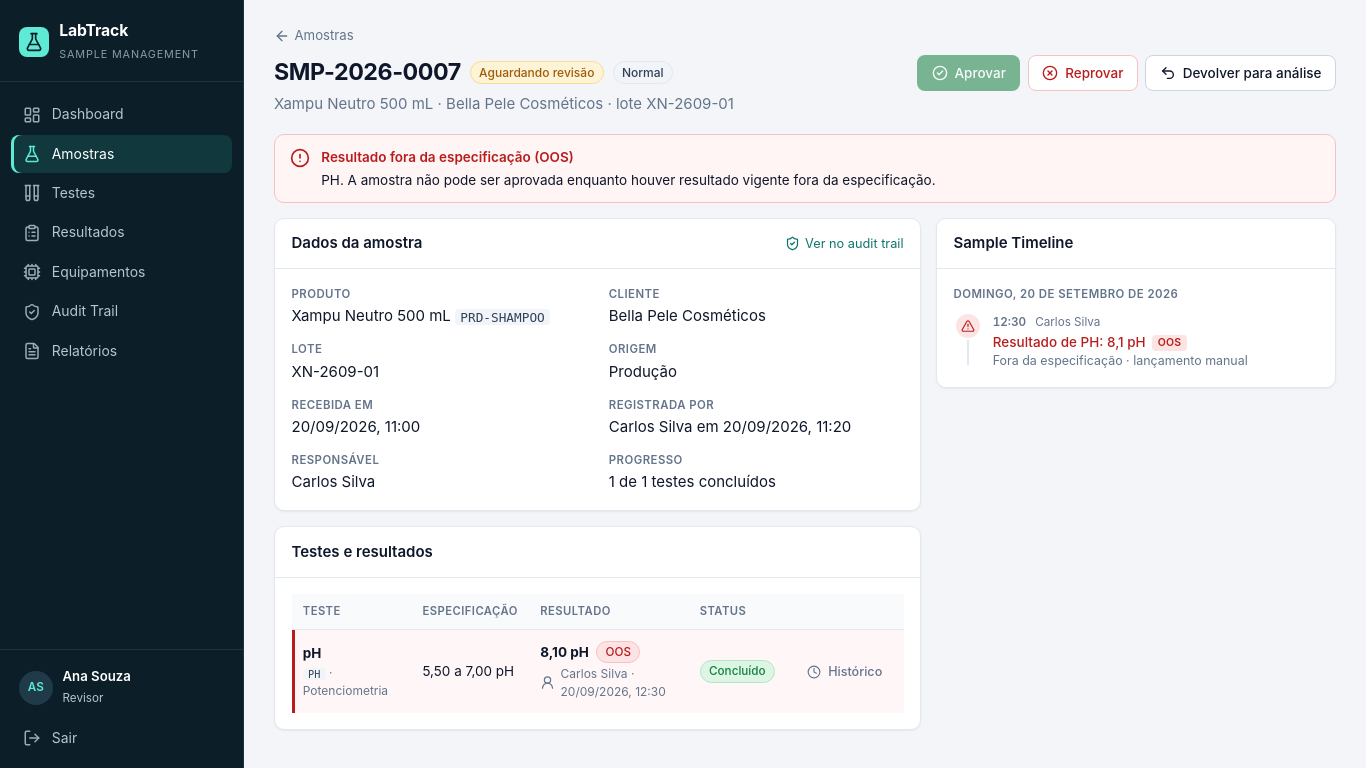
Test: detalhe da amostra › reprovação exige justificativa e mostra o erro da API sem fechar
Click the button "Reprovar" at [1083, 73], box x1=1028 y1=55 x2=1138 y2=91
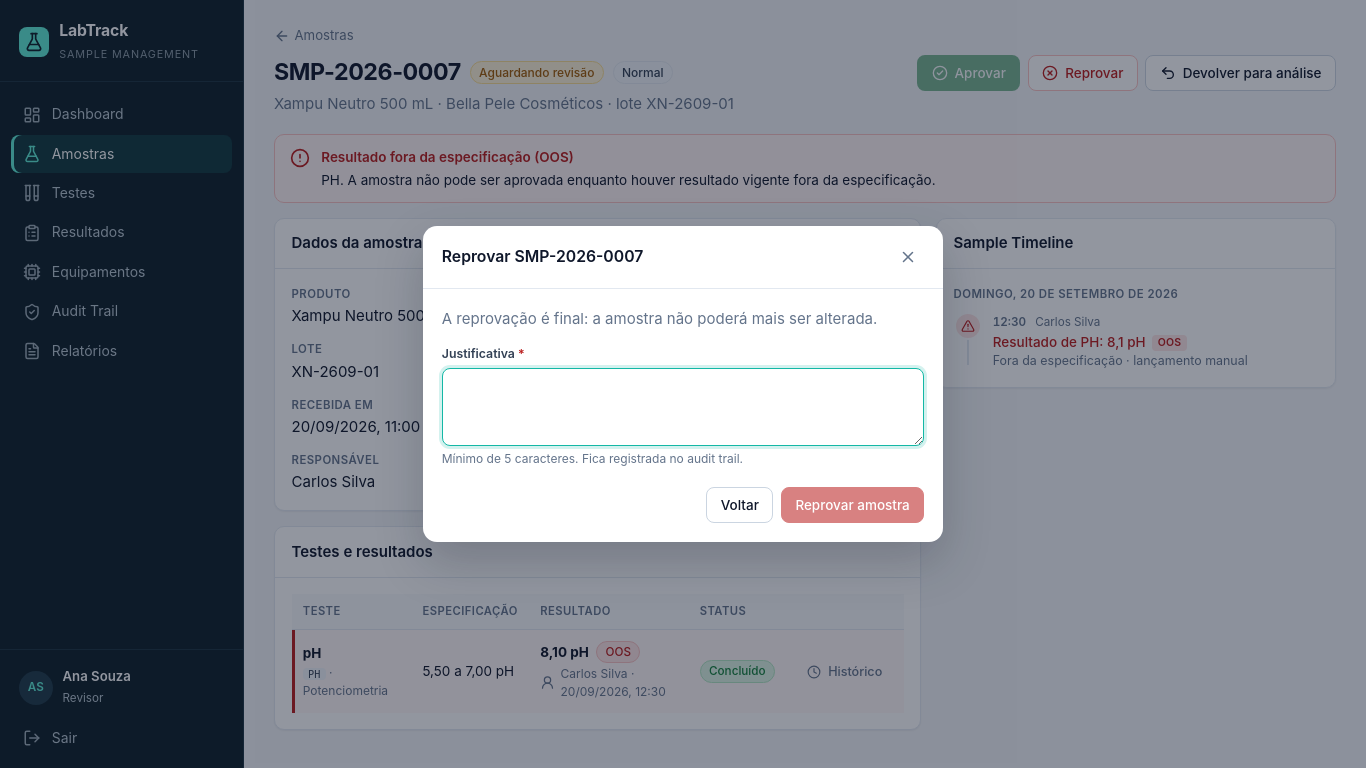
Type "pH" into the text box labelled "Justificativa *" at [683, 407], box x1=442 y1=368 x2=924 y2=446
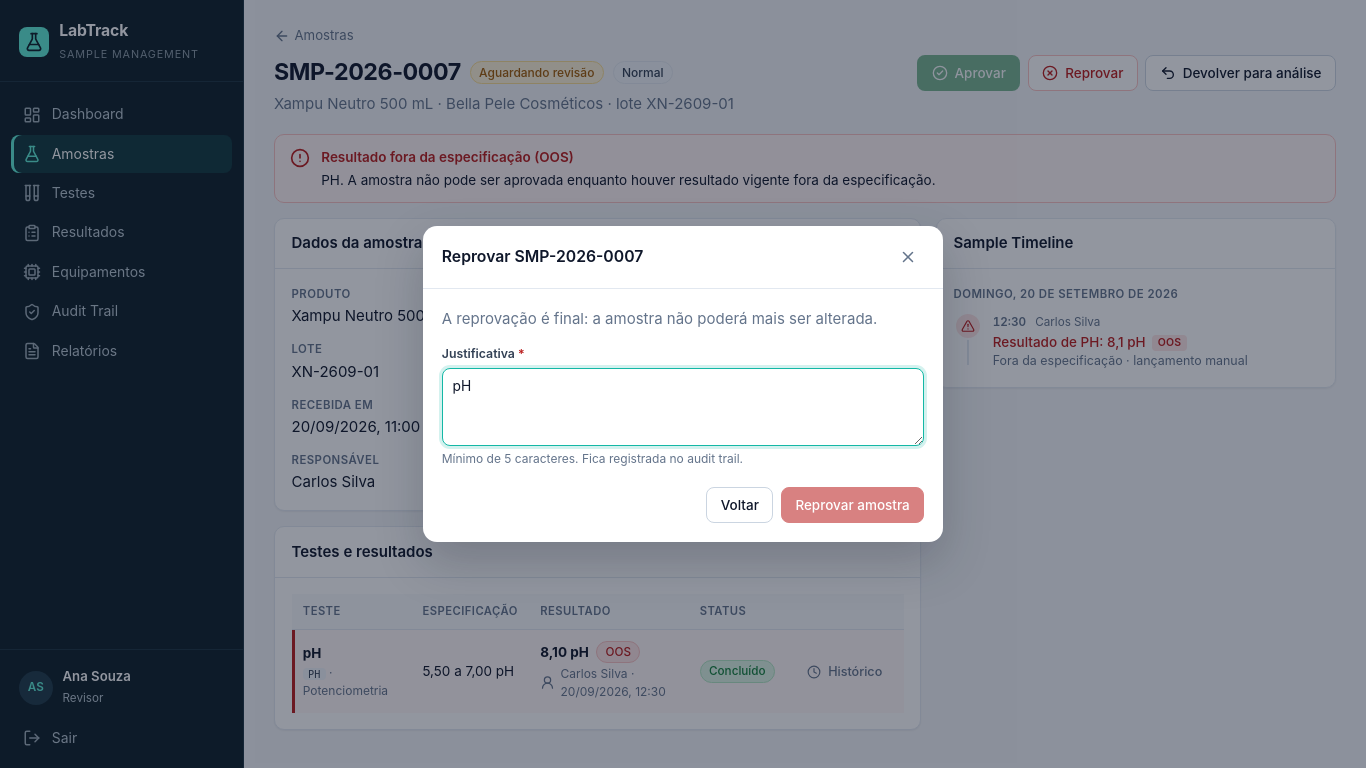
Type " acima do limite" into the text box labelled "Justificativa *" at [683, 407], box x1=442 y1=368 x2=924 y2=446
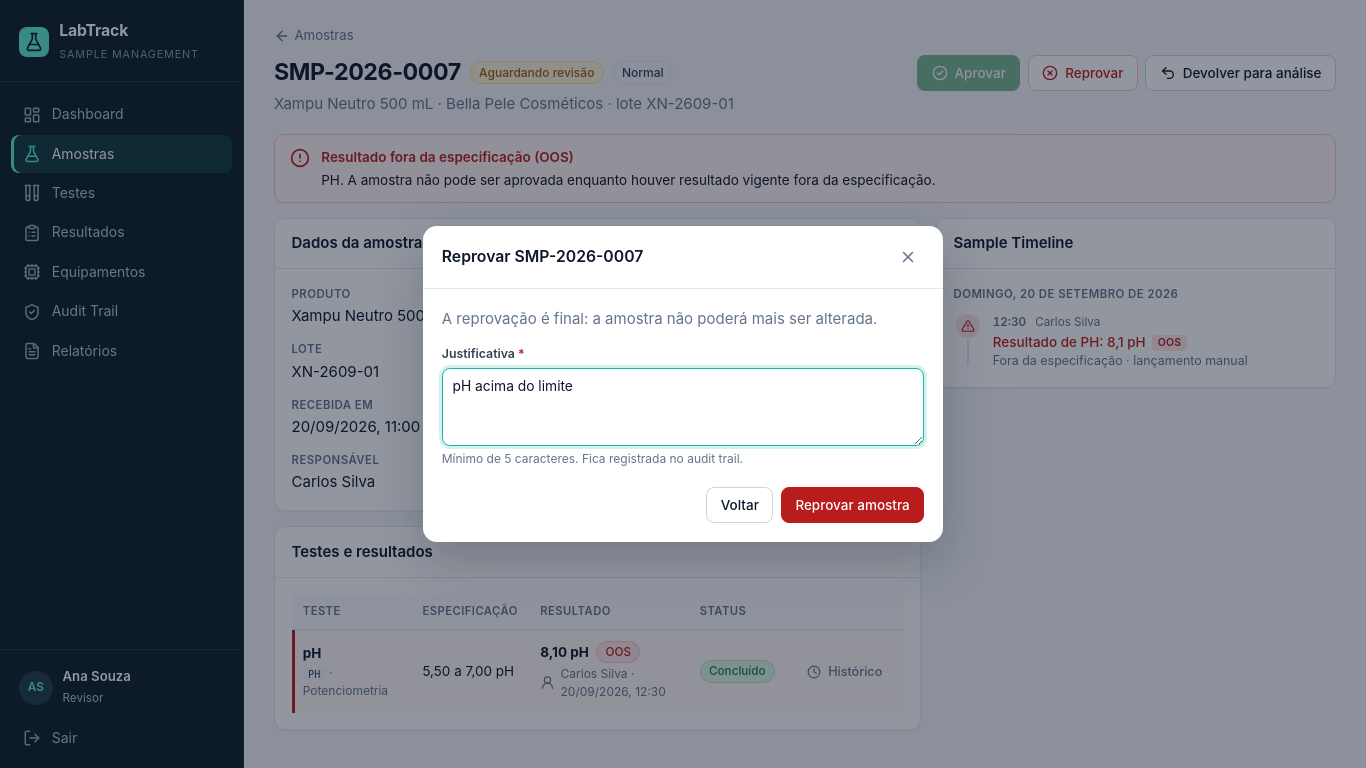
Click the button "Reprovar amostra" at [853, 505], box x1=781 y1=487 x2=924 y2=523
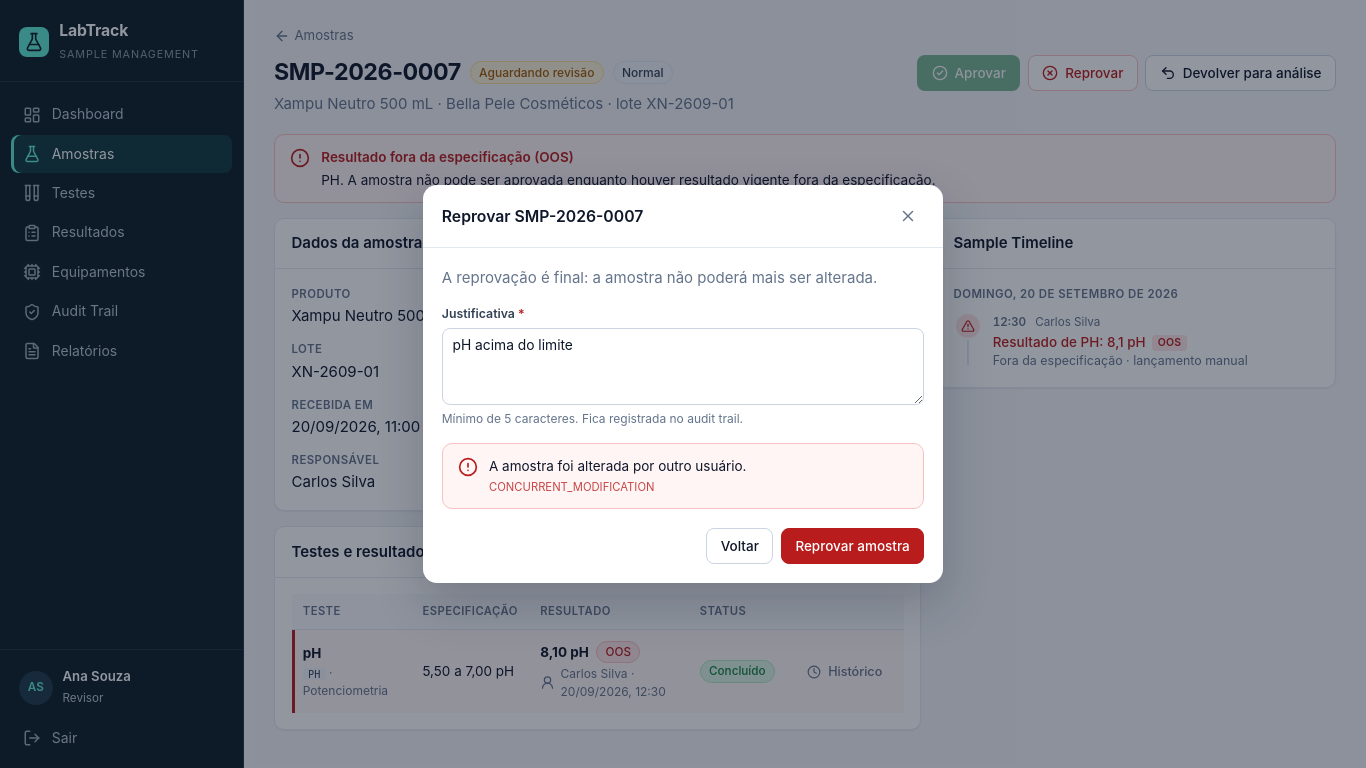
Click the button "Reprovar amostra" at [853, 546], box x1=781 y1=528 x2=924 y2=564
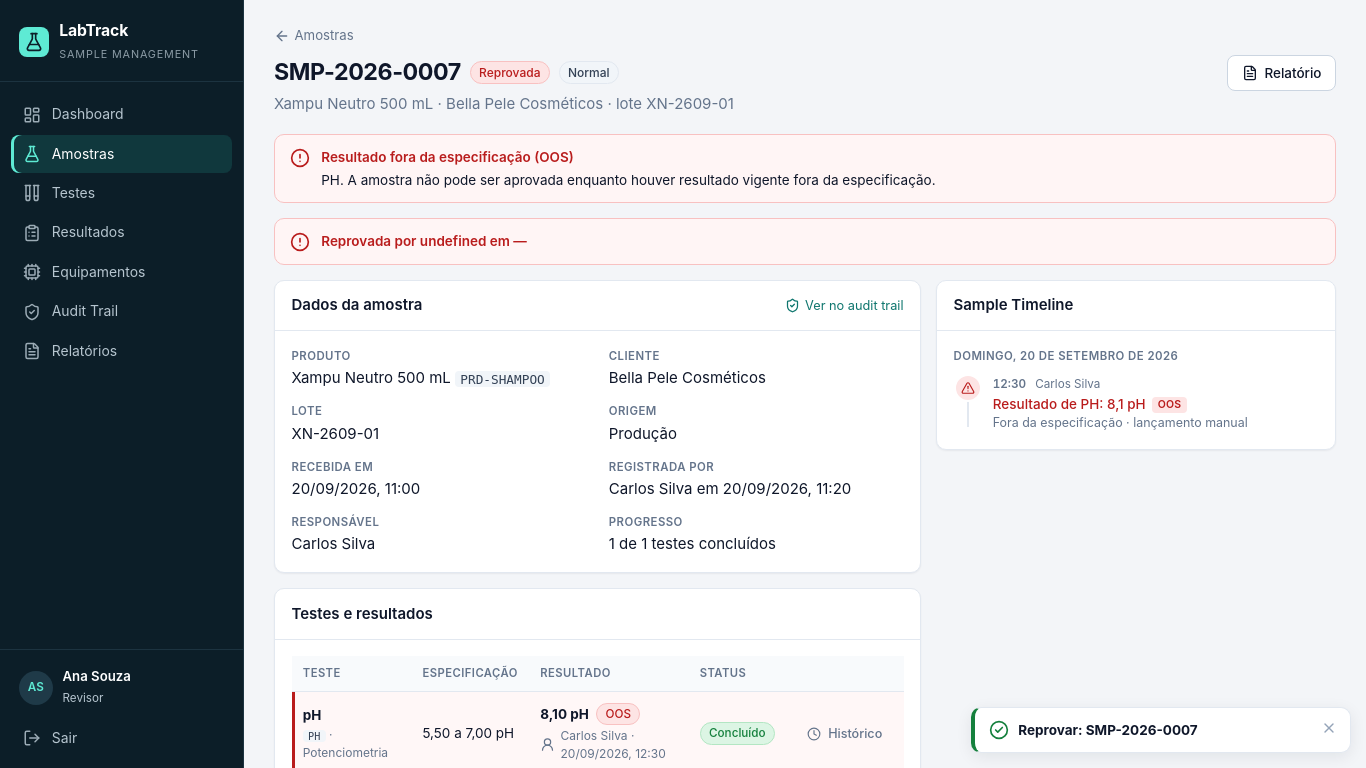
Check: the dialog is gone
